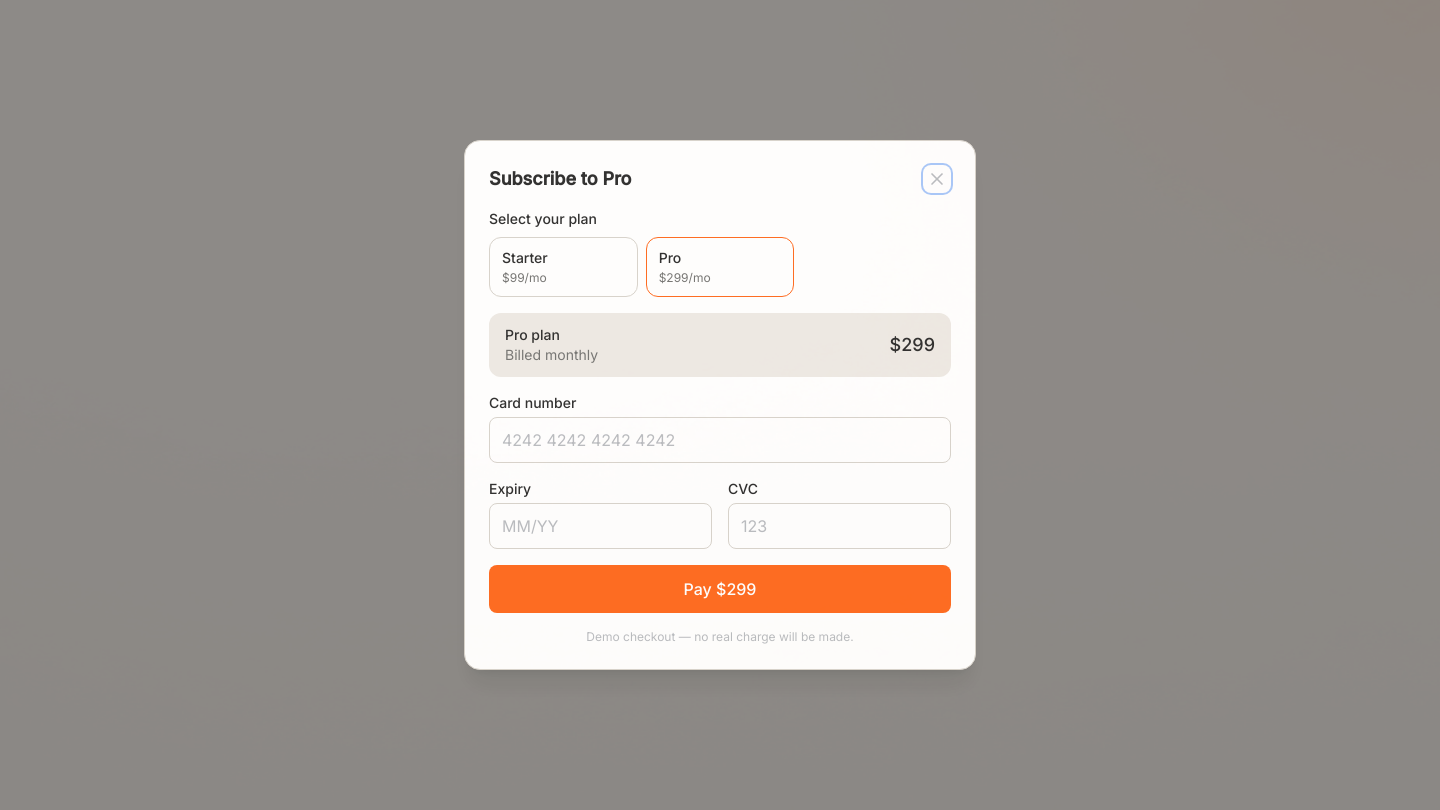
Test: PaymentModal › lets the user switch plans inside the modal
Click the radio button labelled "Starter $99/mo" at {"x": 563, "y": 267}, box x1=489 y1=237 x2=638 y2=297
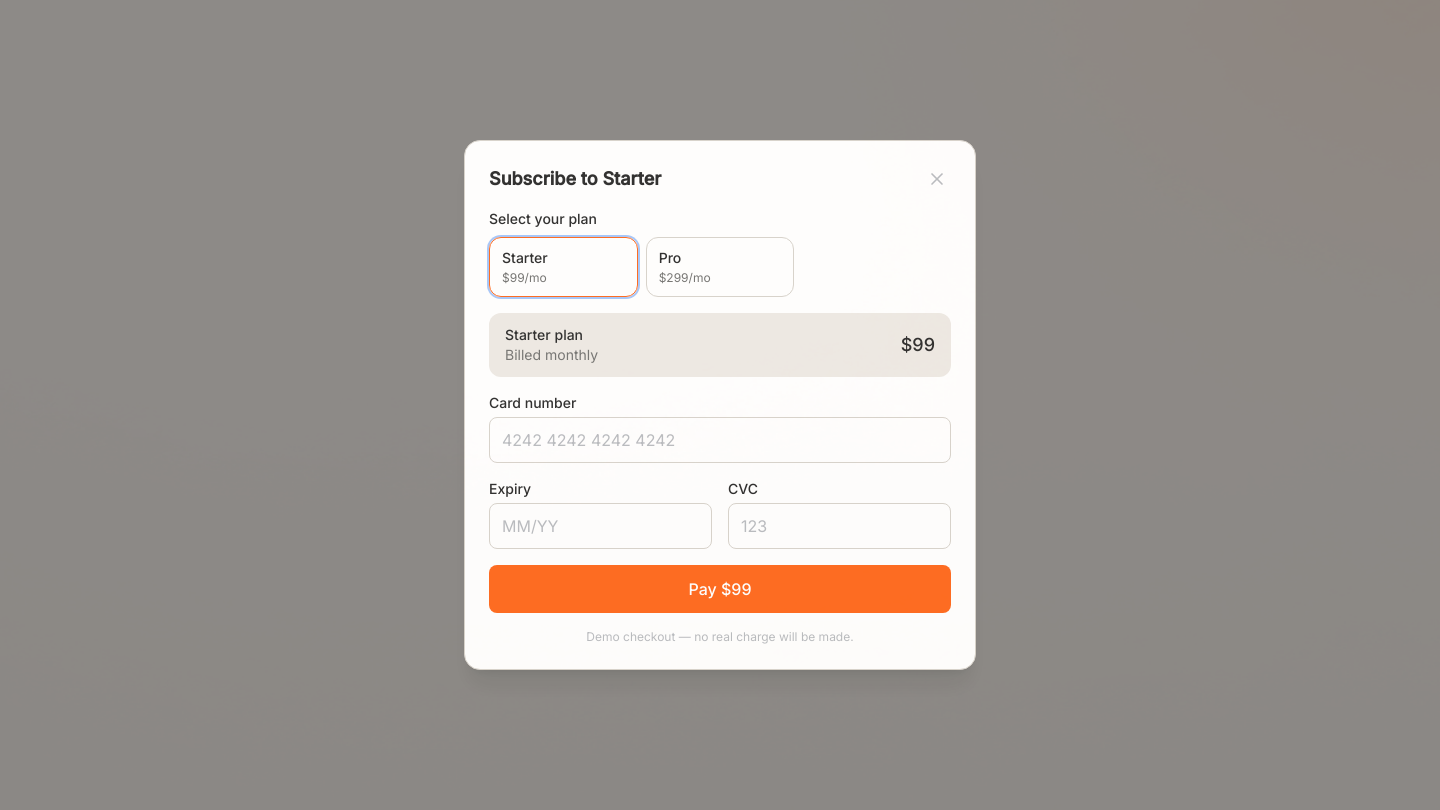
Result: the text "Starter plan" is shown at x1=505 y1=326 x2=583 y2=343
Result: the button "Pay $99" is shown at x1=489 y1=565 x2=951 y2=613
